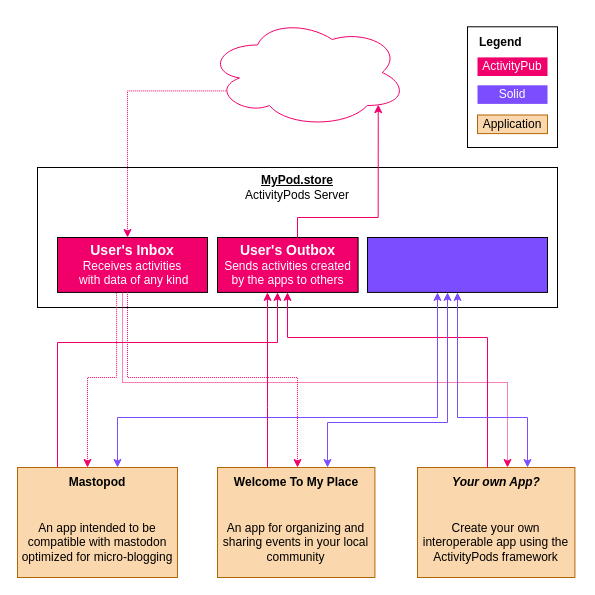
Some shapes in this 595 by 595 pixel diagram are drawn without their labels. The shapes that lost their labels are listed below. From the top down, each one's centre as x and y in pixels, then its label:
At [306,72]: "Fediverse (other ActivityPub instances)".
At [457,264]: "POD data and more Apps store data like images or recipes and query existing data".
